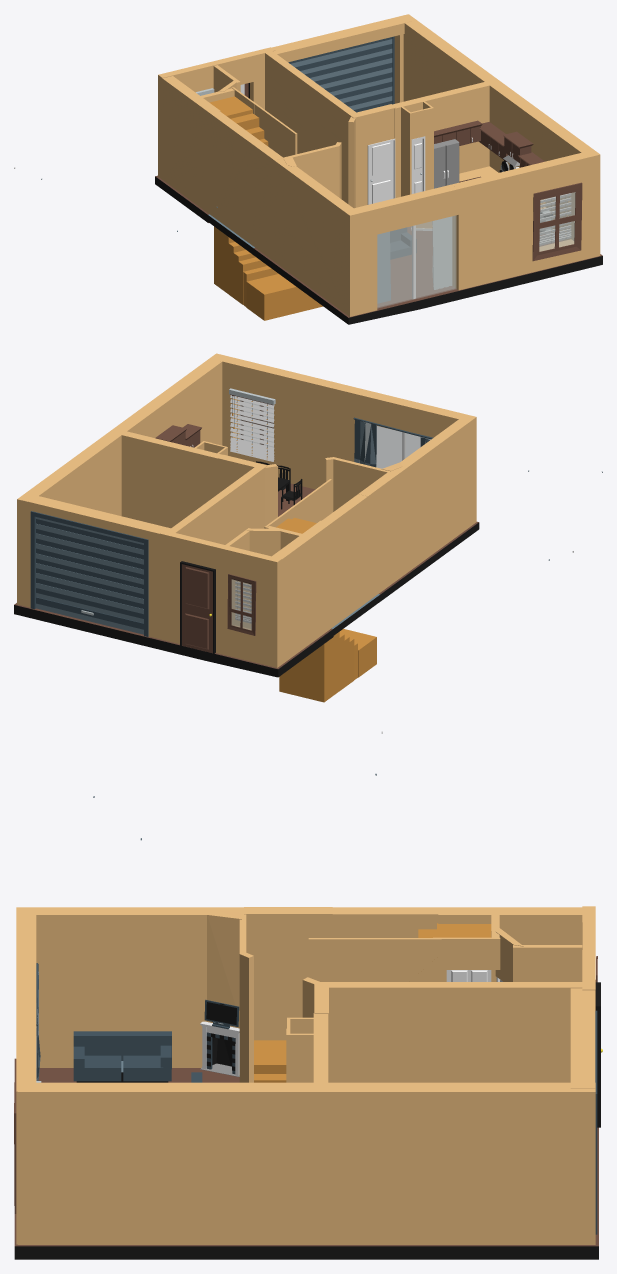
The model's file is middleFloor_model.fbx.
3 renders of one model, top to bottom at view 1: azimuth 30°, elevation 25°; view 2: azimuth 150°, elevation 25°; view 3: azimuth 270°, elevation 25°, orthographic. The views are drawn at different scales.
Parts seen in each view (by area): view 1: group1913084164, group2086210920, group495296466, group2080810550, group926669251, group307745849, group359096643, group1643865836, group1749033926, group9161348, group118787976, group1253599739 (+26 smaller); view 2: group495296466, group1913084164, group2086210920, group9161348, group359096643, group2080810550, group1749033926, group926669251, group951913594, group181332527, group786249837, group1904967002 (+31 smaller); view 3: group495296466, group926669251, group2086210920, group2080810550, group1253599739, group696643633, group359096643, group1749033926, group75932193, group623371997, group1838945717, group615572843 (+11 smaller).
Part boxes in pixels (left/top/right/bottom): group1913084164: left=452, top=150, right=600, bottom=290; group2086210920: left=275, top=158, right=360, bottom=316; group495296466: left=403, top=14, right=593, bottom=240; group2080810550: left=155, top=175, right=602, bottom=324; group926669251: left=265, top=51, right=361, bottom=207; group307745849: left=377, top=215, right=456, bottom=307; group359096643: left=162, top=76, right=220, bottom=214; group1643865836: left=354, top=184, right=460, bottom=314; group1749033926: left=210, top=111, right=253, bottom=242; group9161348: left=392, top=81, right=490, bottom=197; group118787976: left=532, top=182, right=582, bottom=261; group1253599739: left=245, top=136, right=283, bottom=259; group495296466: left=17, top=358, right=222, bottom=607; group1913084164: left=210, top=353, right=363, bottom=489; group2086210920: left=388, top=414, right=476, bottom=570; group9161348: left=120, top=431, right=222, bottom=528; group359096643: left=272, top=520, right=331, bottom=664; group2080810550: left=14, top=483, right=479, bottom=677; group1749033926: left=322, top=494, right=371, bottom=627; group926669251: left=168, top=463, right=267, bottom=544; group951913594: left=36, top=543, right=143, bottom=598; group181332527: left=160, top=530, right=218, bottom=643; group786249837: left=214, top=543, right=260, bottom=662; group1904967002: left=180, top=561, right=215, bottom=653; group495296466: left=18, top=1082, right=595, bottom=1244; group926669251: left=314, top=982, right=582, bottom=1082; group2086210920: left=16, top=907, right=243, bottom=1067; group2080810550: left=14, top=1058, right=598, bottom=1259; group1253599739: left=244, top=907, right=332, bottom=1040; group696643633: left=73, top=1031, right=171, bottom=1082; group359096643: left=438, top=907, right=582, bottom=944; group1749033926: left=322, top=907, right=442, bottom=937; group75932193: left=359, top=938, right=441, bottom=981; group623371997: left=207, top=910, right=241, bottom=1028; group1838945717: left=570, top=988, right=595, bottom=1088; group615572843: left=513, top=945, right=582, bottom=981.
Size of the model in its own units: 497 by 188 by 359.
